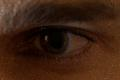eye: (40, 29, 69, 55)
